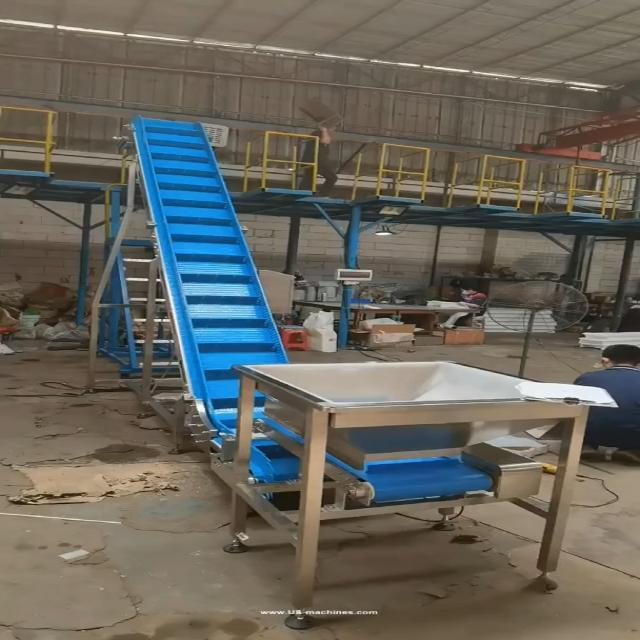Convoyeur: (126, 116, 562, 520)
